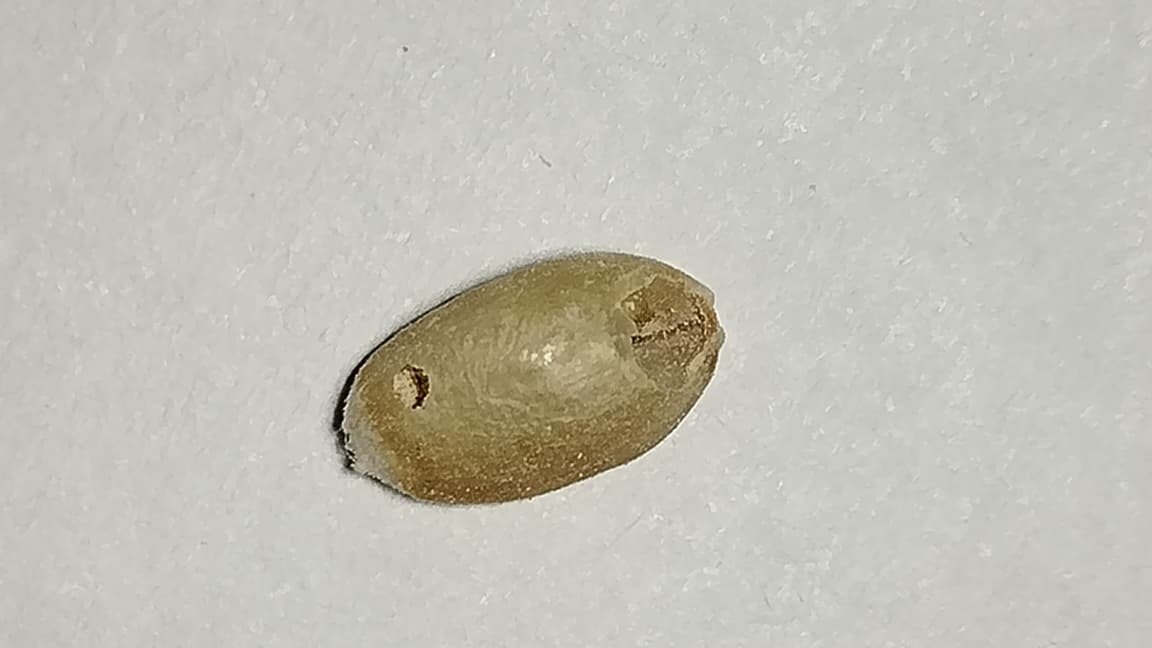damage: (332, 248, 725, 512)
insectdamage: (621, 277, 715, 383), (384, 363, 440, 409)
